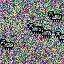sheep: (0, 39, 15, 51), (38, 26, 53, 38), (48, 11, 62, 23), (27, 23, 42, 34), (55, 31, 64, 42)
